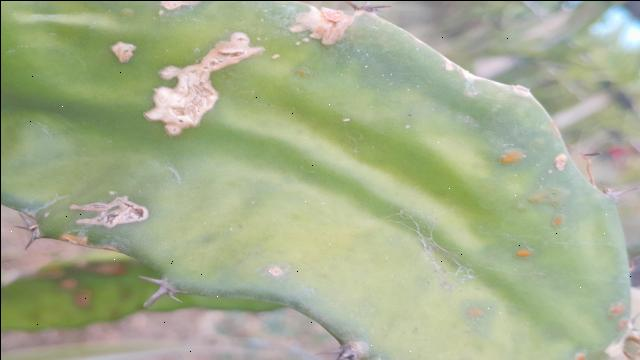stemcanker: (482, 145, 533, 174), (599, 298, 632, 323), (458, 300, 491, 325), (504, 244, 540, 263), (544, 208, 571, 233)
